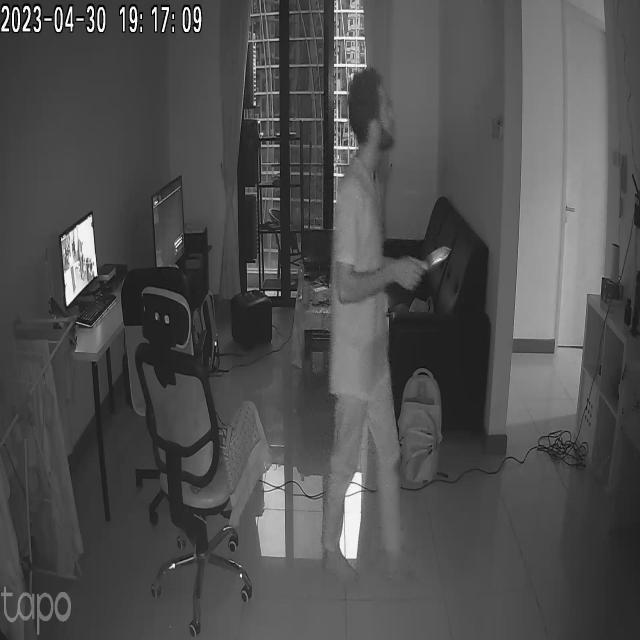Knife: (421, 235, 454, 279)
